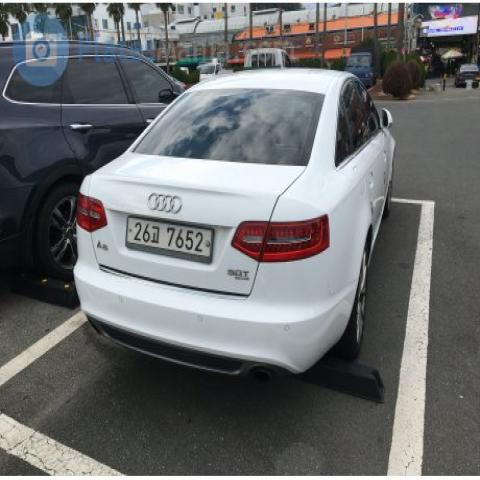LP: (113, 208, 220, 268)
